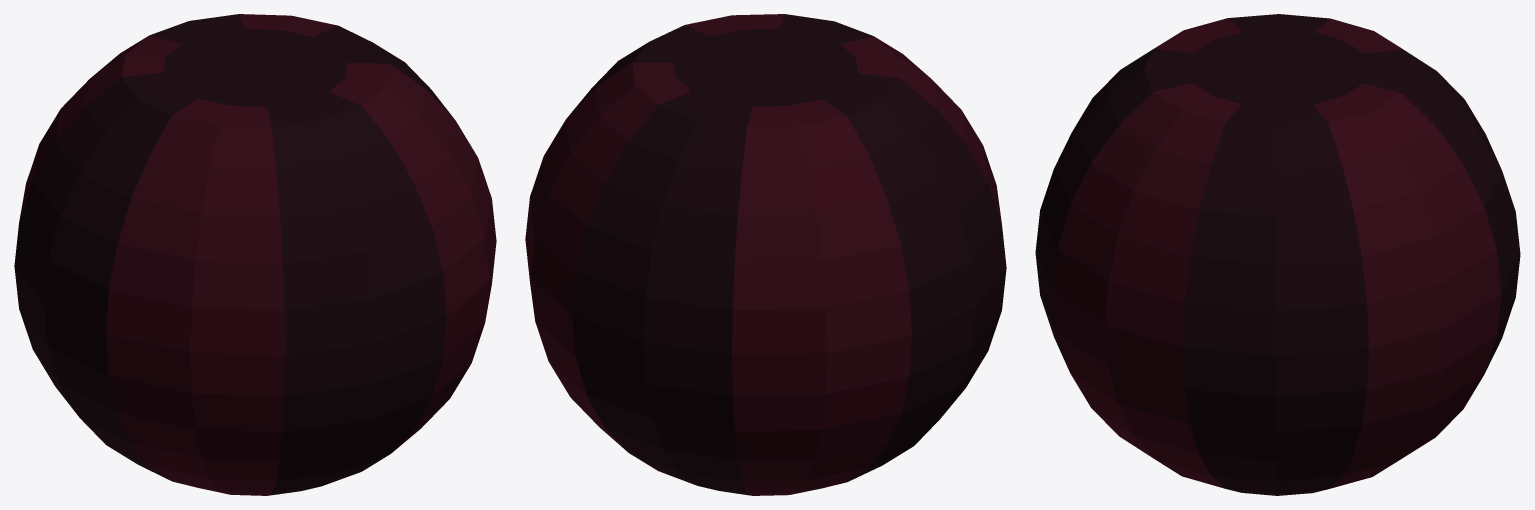
Rendered from joystickball2(F225).obj.
3 renders of one model, left to right at view 1: azimuth 30°, elevation 25°; view 2: azimuth 150°, elevation 25°; view 3: azimuth 270°, elevation 25°, orthographic.
Visible parts, largest first — view 1: Sphere.001; view 2: Sphere.001; view 3: Sphere.001.
Part boxes in pixels (bbox=[...]): Sphere.001: bbox=[14, 14, 496, 495]; Sphere.001: bbox=[525, 14, 1006, 495]; Sphere.001: bbox=[1035, 14, 1520, 495].
Bounding box in the file's own units: 0.6023 × 0.5553 × 0.6023.
